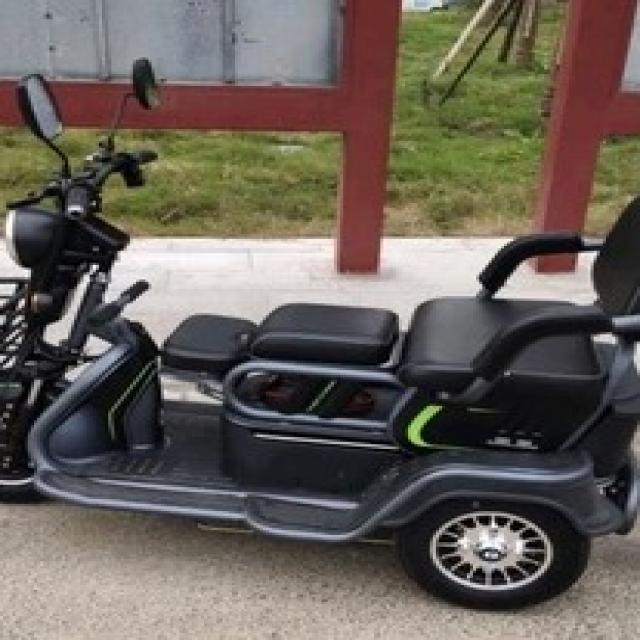tricycle: (0, 52, 637, 609)
